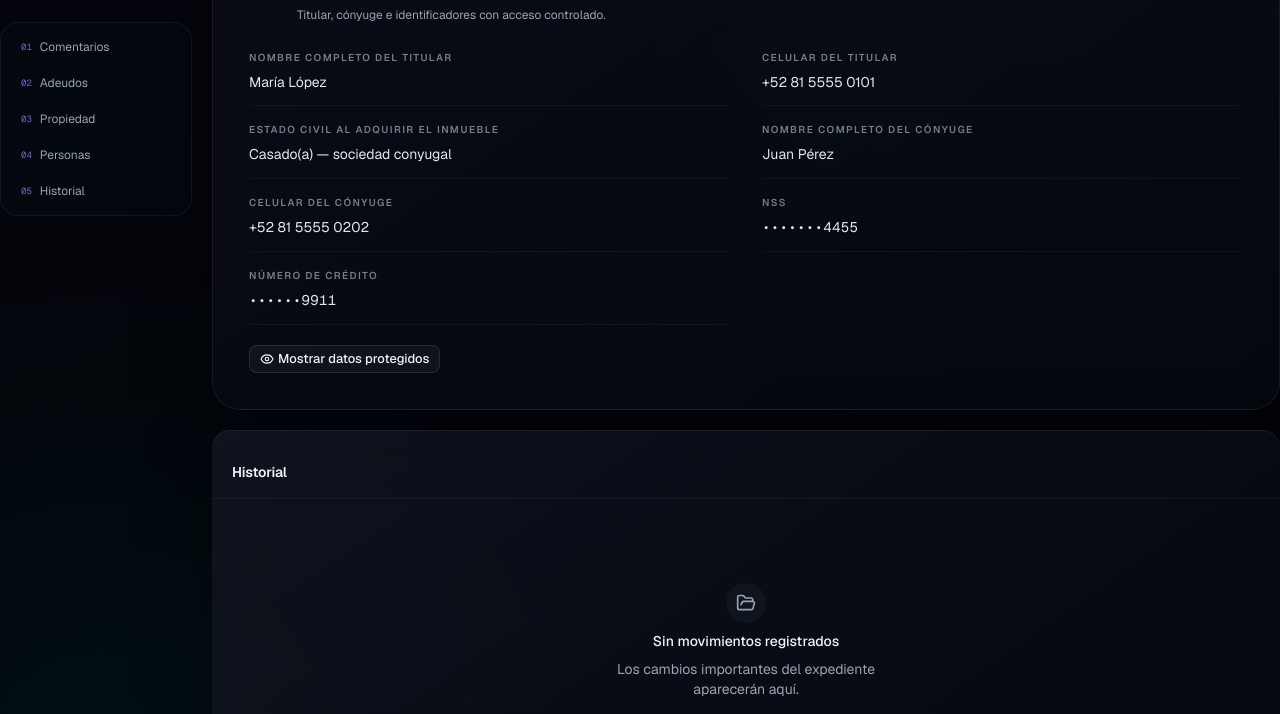
Mostrar datos protegidos — case detail page › reveals the full values after confirming, then Ocultar clears them at once
(page scrolled)
Click the button "Mostrar datos protegidos": (345, 358) [249,344,440,372]
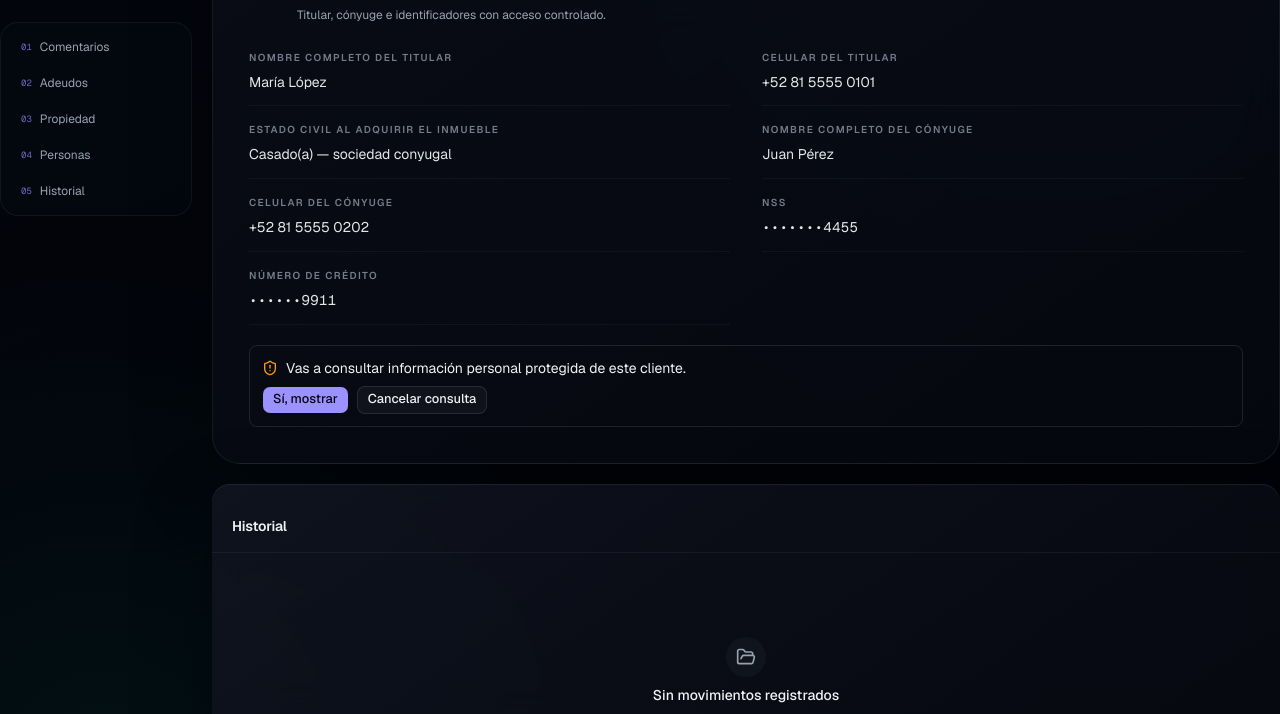
Click the button "Sí, mostrar": (305, 400) [262,386,349,414]
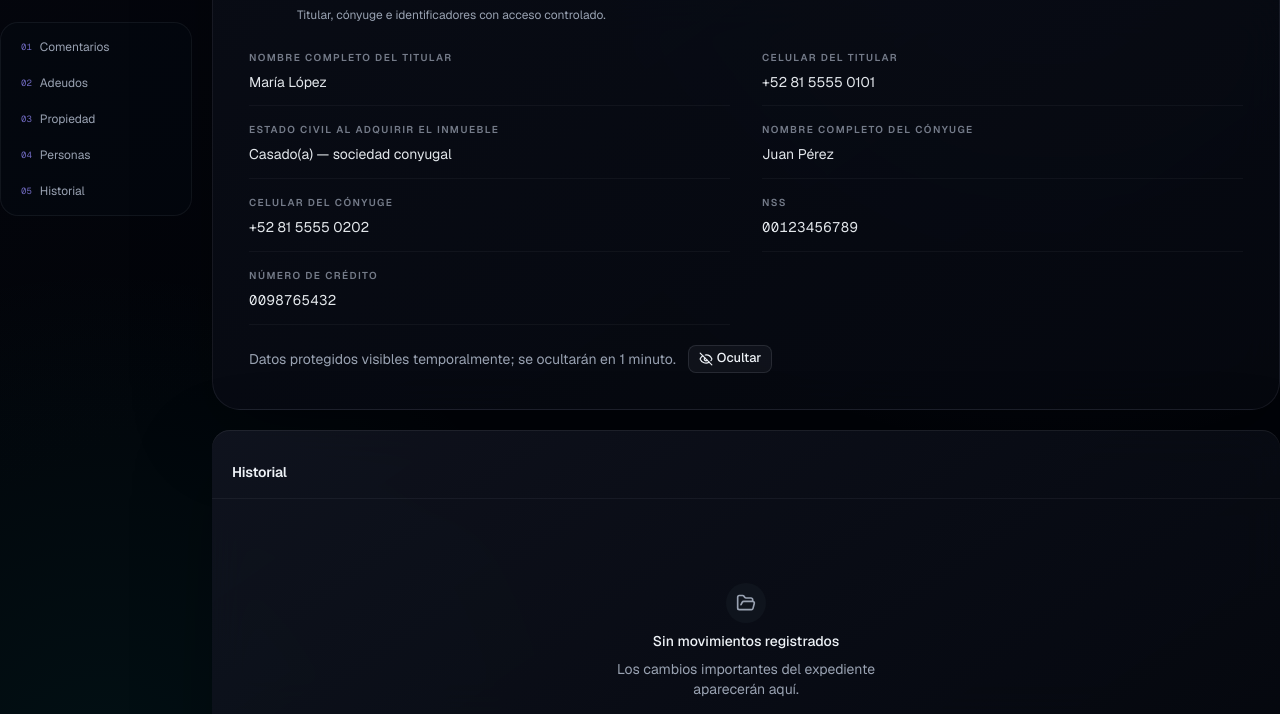
Check: the text with test id "nss-display" reads "00123456789", box [762,218,858,236]
Check: the text with test id "credit-number-display" reads "0098765432", box [249,291,336,309]
Check: the text "Datos protegidos visibles temporalmente; se ocultarán en 1 minuto." is shown, box [249,348,676,368]
Click the button "Ocultar": (730, 358) [688,344,772,372]
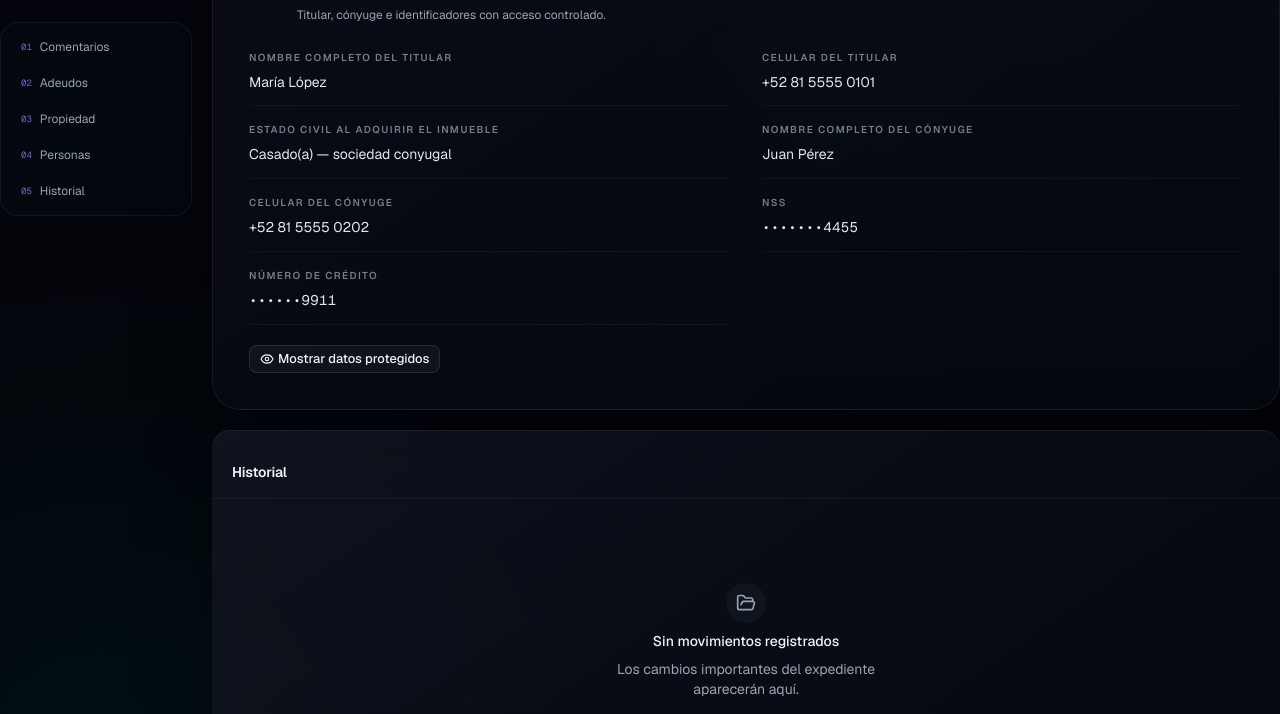
Check: the text with test id "nss-display" reads "•••••••4455", box [762,218,858,236]
Check: the text "00123456789" is gone
Check: the text "0098765432" is gone
